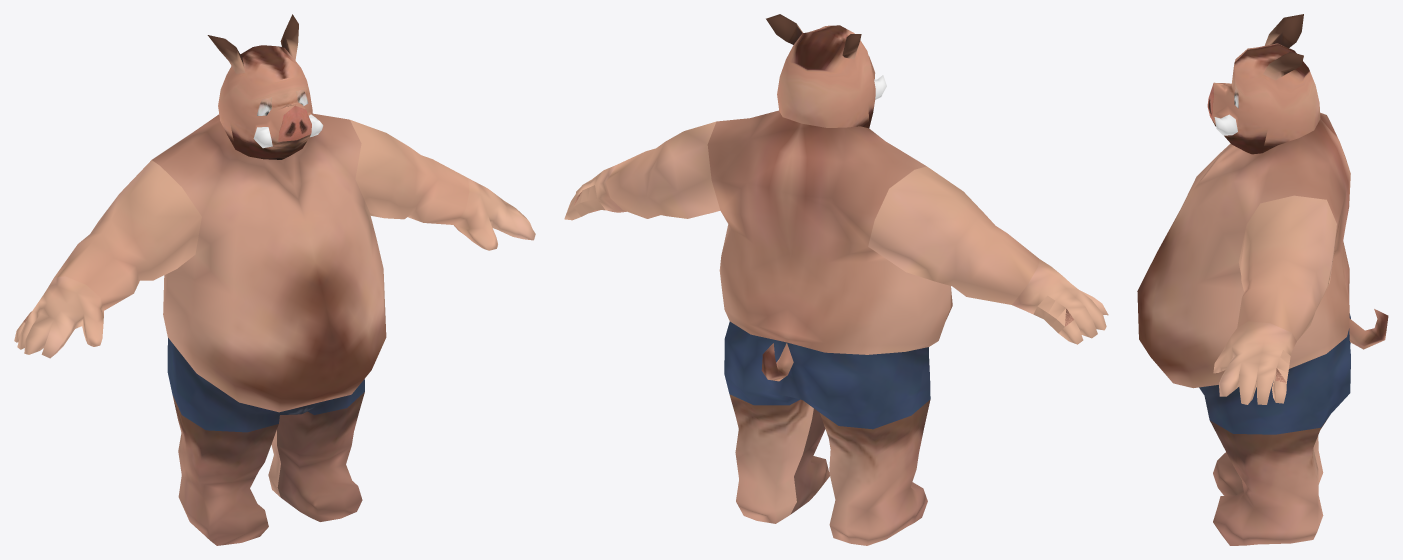
The model's file is boar_pig.gltf.
The picture shows the model from 3 angles, left to right: view 1: azimuth 30°, elevation 25°; view 2: azimuth 150°, elevation 25°; view 3: azimuth 270°, elevation 25°; orthographic projection. The views are drawn at different scales.
Visible parts, largest first — view 1: body; view 2: body; view 3: body.
Boxes of the visible parts, box(x1,y1,x2,y2) form: body: box(14, 14, 535, 545); body: box(564, 14, 1108, 545); body: box(1137, 14, 1388, 545).
Bounding box in the file's own units: 3.4 × 3.05 × 1.46.
Materials: 1 (1 with a texture image).
